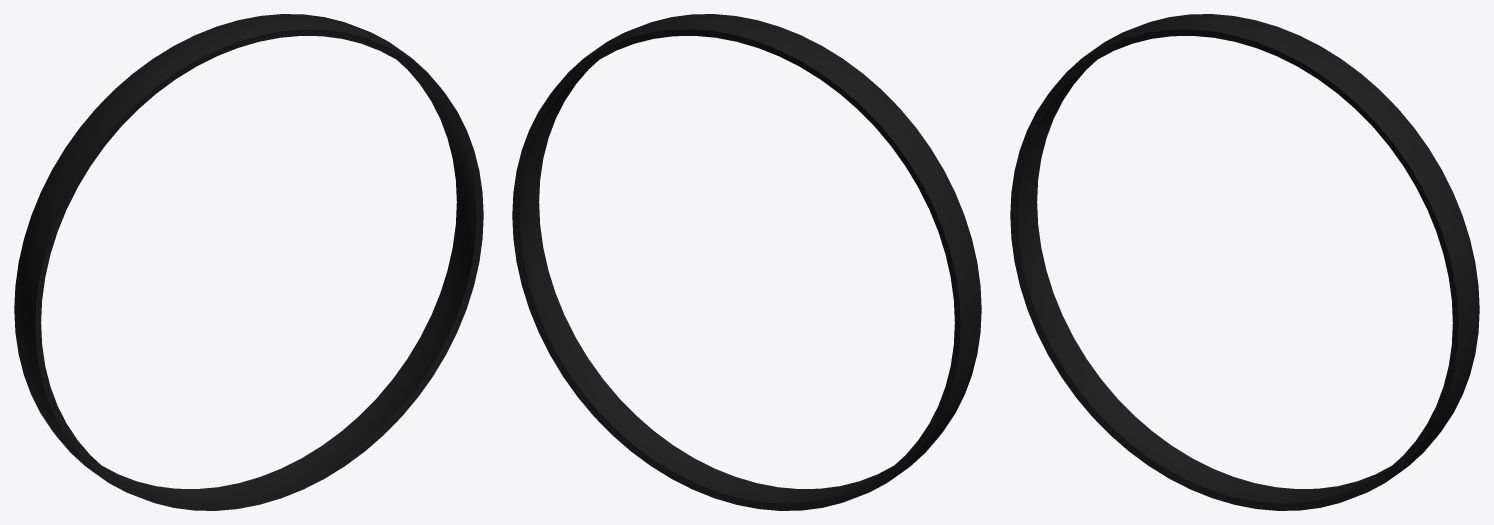
File: figure_6.obj
3 views of the same model, side by side, from view 1: azimuth 30°, elevation 25°; view 2: azimuth 150°, elevation 25°; view 3: azimuth 330°, elevation 25° (orthographic).
Visible parts, largest first — view 1: Cube.001_Cube.002; view 2: Cube.001_Cube.002; view 3: Cube.001_Cube.002.
Boxes of the visible parts, <box> form: Cube.001_Cube.002: <box>14,14,483,510</box>; Cube.001_Cube.002: <box>512,14,981,510</box>; Cube.001_Cube.002: <box>1010,14,1479,510</box>.
Size of the model in its own units: 2 by 2 by 0.1609.
